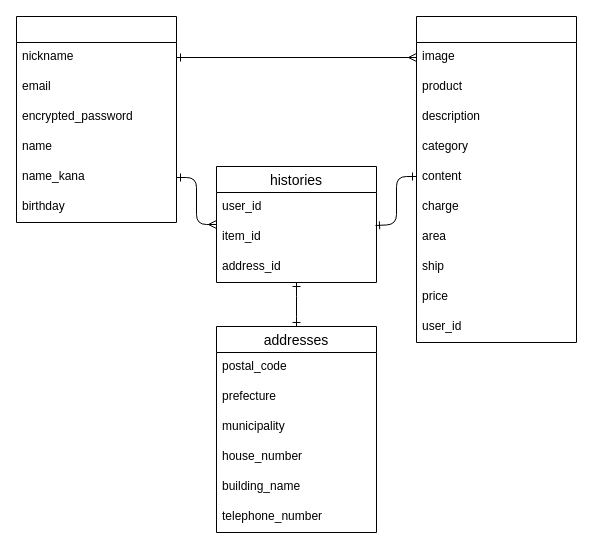
Image size: 593x549. Some labels were removed from this diagram. The shapes that lost their labels are listed below. From the top down, each one's box as (x1, y1, x2, y2) in pixels, then its label:
(16, 16, 176, 222): users
(416, 16, 576, 342): items
